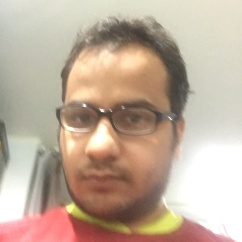glasses: (52, 104, 168, 138)
